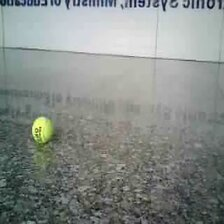tennis: (31, 116, 55, 146)
